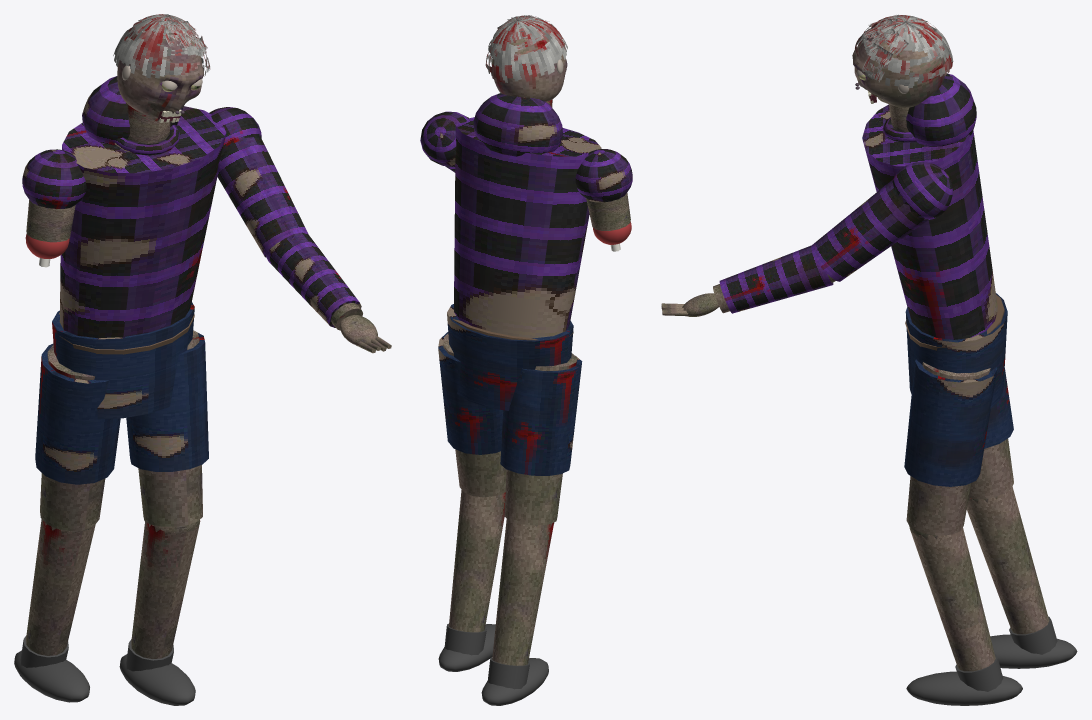
The model's file is Zombie_017.glb.
The picture shows the model from 3 angles, left to right: view 1: azimuth 30°, elevation 25°; view 2: azimuth 150°, elevation 25°; view 3: azimuth 270°, elevation 25°; orthographic projection. The views are drawn at different scales.
Visible parts, largest first — view 1: Zombie_017, object 4, object 10, object 35, object 5, object 34; view 2: Zombie_017, object 35, object 10, object 34; view 3: Zombie_017, object 4, object 35, object 10.
Boxes of the visible parts, x1=… form: Zombie_017: x1=14, y1=76, x2=308, y2=705; object 4: x1=265, y1=232, x2=361, y2=327; object 10: x1=117, y1=26, x2=204, y2=121; object 35: x1=113, y1=14, x2=208, y2=74; object 5: x1=339, y1=315, x2=377, y2=345; object 34: x1=116, y1=20, x2=206, y2=78; Zombie_017: x1=420, y1=93, x2=632, y2=705; object 35: x1=485, y1=15, x2=567, y2=81; object 10: x1=492, y1=37, x2=567, y2=101; object 34: x1=488, y1=34, x2=566, y2=83; Zombie_017: x1=811, y1=73, x2=1077, y2=705; object 4: x1=719, y1=245, x2=833, y2=313; object 35: x1=855, y1=15, x2=953, y2=85; object 10: x1=852, y1=31, x2=945, y2=107.
Size of the model in its own units: 0.5689 by 1.65 by 0.9256.
17 materials, 6 textured.
